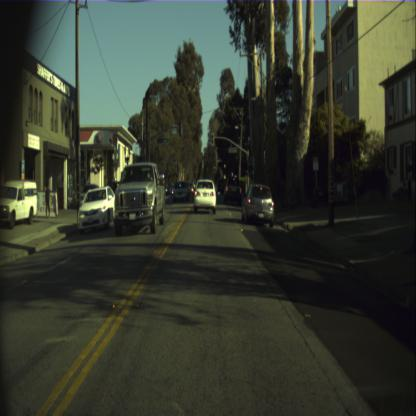Yellow: (210, 132, 214, 146)
